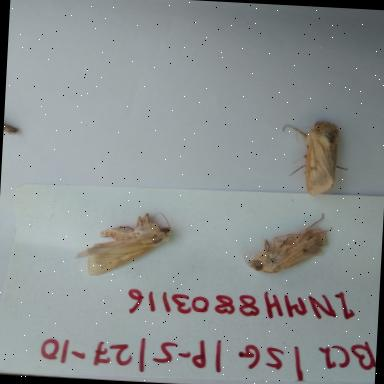abw: (68, 204, 183, 283), (272, 114, 356, 204), (240, 205, 339, 280)
